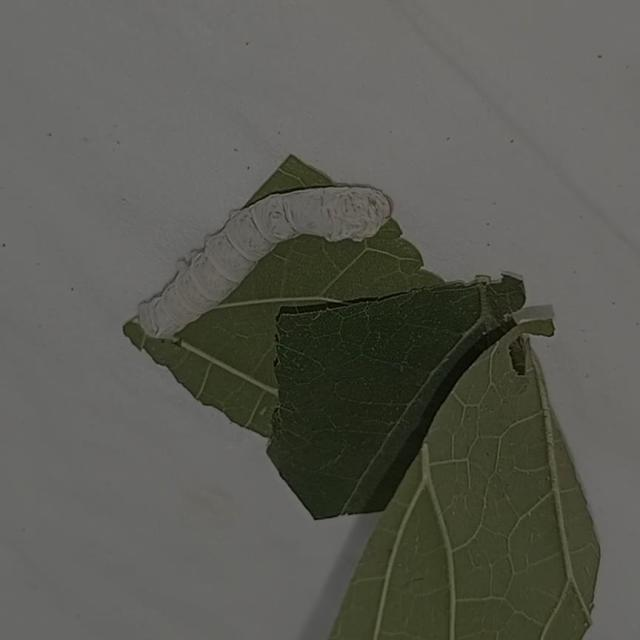Healthy: (136, 170, 396, 348)
